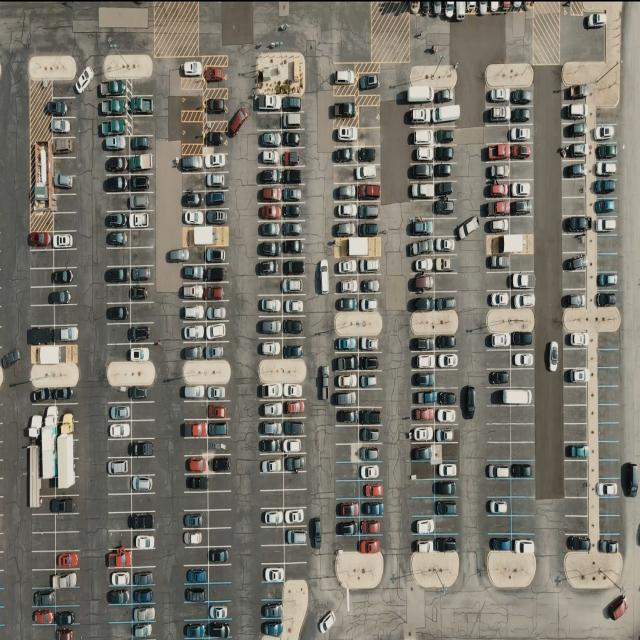space-empty: (490, 406, 534, 426), (560, 196, 588, 216), (561, 234, 588, 254), (30, 305, 54, 327), (130, 229, 156, 249), (408, 201, 435, 220), (563, 348, 587, 369), (106, 322, 130, 343), (55, 305, 79, 326), (130, 115, 155, 135), (595, 235, 620, 255), (258, 276, 283, 296), (262, 526, 287, 546), (485, 349, 510, 369), (31, 514, 56, 534), (562, 178, 588, 197), (130, 247, 156, 266), (54, 588, 80, 607), (181, 400, 207, 419), (485, 442, 511, 461), (485, 480, 512, 498), (357, 106, 380, 127), (562, 270, 586, 290), (208, 490, 232, 510), (563, 406, 587, 426), (564, 479, 588, 499), (108, 529, 132, 549), (336, 424, 360, 444), (208, 510, 232, 530), (52, 78, 76, 98), (564, 496, 588, 516), (335, 480, 359, 500), (29, 286, 53, 306), (512, 479, 537, 498), (105, 248, 130, 267), (487, 516, 512, 535), (106, 476, 131, 495), (510, 253, 535, 272), (131, 492, 156, 511), (183, 492, 208, 511), (356, 388, 381, 407), (56, 531, 81, 550), (434, 218, 459, 237), (256, 112, 282, 130), (184, 602, 210, 620), (510, 424, 536, 442), (180, 124, 203, 144), (132, 400, 155, 420), (30, 212, 53, 232), (53, 193, 77, 212), (106, 439, 130, 458), (107, 493, 131, 512), (208, 564, 232, 583), (563, 386, 587, 405), (132, 419, 156, 438), (184, 547, 208, 566), (437, 370, 461, 389), (53, 158, 77, 177), (564, 423, 588, 442), (411, 496, 435, 515), (509, 215, 533, 234), (356, 128, 380, 147), (131, 77, 155, 96), (32, 552, 56, 571), (32, 532, 56, 551), (262, 489, 286, 508), (512, 497, 536, 516), (488, 423, 512, 442), (180, 173, 205, 191), (182, 439, 207, 457), (105, 192, 130, 210), (484, 126, 509, 144), (105, 284, 130, 302), (29, 250, 54, 268), (509, 162, 534, 180), (484, 272, 509, 290), (107, 604, 132, 622), (564, 516, 589, 534), (511, 368, 536, 386), (411, 461, 437, 478), (130, 304, 152, 324), (598, 442, 620, 462), (597, 385, 619, 405), (54, 212, 77, 231), (597, 366, 620, 385), (335, 461, 358, 480), (207, 583, 230, 602), (411, 479, 434, 498), (436, 516, 460, 534), (132, 550, 156, 568), (262, 546, 286, 564), (282, 471, 306, 489), (564, 460, 588, 478), (261, 472, 285, 490), (107, 513, 131, 531), (596, 256, 620, 274), (512, 516, 536, 534), (512, 443, 536, 461), (208, 528, 232, 546), (30, 269, 54, 287), (598, 405, 620, 424), (334, 165, 356, 184), (208, 474, 230, 493), (598, 496, 620, 515), (283, 489, 305, 508), (596, 106, 618, 125), (597, 349, 620, 367), (284, 546, 307, 564), (132, 457, 155, 475), (263, 584, 286, 602), (56, 514, 79, 532), (106, 385, 129, 403), (181, 94, 204, 112), (597, 332, 620, 350), (284, 562, 307, 580), (109, 623, 133, 640), (598, 423, 619, 442), (33, 569, 54, 588), (55, 249, 77, 267), (436, 274, 458, 292), (439, 443, 459, 462), (599, 516, 620, 534), (335, 445, 357, 462), (107, 346, 130, 362), (599, 460, 620, 477), (336, 536, 358, 552), (33, 626, 56, 640), (357, 94, 380, 108)
space-occupied: (490, 385, 534, 406), (99, 96, 128, 118), (204, 94, 229, 119), (101, 134, 129, 156), (98, 116, 128, 136), (405, 105, 433, 126), (409, 180, 436, 201), (485, 458, 512, 479), (49, 97, 76, 118), (434, 104, 461, 125), (590, 178, 618, 198), (408, 237, 436, 257), (591, 198, 619, 218), (406, 87, 434, 107), (335, 97, 358, 121), (334, 64, 356, 89), (561, 102, 588, 122), (561, 215, 589, 234), (204, 64, 228, 86), (204, 126, 228, 148), (129, 95, 154, 116), (258, 316, 283, 337), (51, 137, 76, 158), (259, 294, 284, 315), (29, 230, 54, 251), (50, 118, 76, 138), (485, 87, 511, 107), (560, 160, 586, 180), (592, 215, 618, 235), (355, 444, 381, 464), (29, 325, 55, 345), (410, 443, 437, 462), (484, 199, 511, 218), (282, 316, 305, 338), (282, 294, 306, 315), (434, 290, 458, 311), (562, 252, 587, 272), (129, 155, 154, 175), (484, 105, 509, 125), (106, 419, 131, 439), (511, 460, 536, 480), (130, 265, 155, 285), (562, 288, 587, 308), (562, 140, 587, 160), (105, 304, 130, 324), (486, 495, 511, 515), (184, 527, 209, 547), (258, 338, 283, 358), (411, 351, 436, 371), (183, 620, 208, 640), (410, 273, 435, 293), (102, 78, 128, 97), (181, 419, 207, 438), (254, 94, 280, 113), (562, 124, 588, 143), (181, 383, 207, 402), (102, 157, 128, 176), (256, 259, 282, 278), (409, 217, 435, 236), (566, 533, 592, 552), (409, 254, 435, 273), (510, 289, 536, 308), (484, 216, 510, 235), (181, 58, 203, 80), (357, 73, 380, 94), (262, 562, 286, 582), (564, 442, 588, 462), (436, 350, 460, 370), (204, 152, 228, 172), (106, 456, 130, 476), (282, 274, 306, 294), (334, 126, 358, 146), (106, 229, 130, 249), (487, 252, 511, 272), (106, 402, 130, 422), (56, 324, 80, 344), (205, 320, 229, 340), (184, 474, 208, 494), (280, 149, 304, 169), (355, 163, 379, 183), (335, 275, 359, 295), (108, 567, 132, 587), (512, 533, 536, 553), (511, 349, 536, 368), (592, 124, 617, 143), (105, 266, 130, 285), (180, 303, 205, 322), (356, 182, 381, 201), (511, 273, 536, 292), (358, 481, 383, 500), (484, 179, 509, 198), (509, 198, 534, 217), (409, 145, 434, 164), (485, 143, 510, 162), (357, 461, 382, 480), (52, 285, 77, 304), (411, 370, 436, 389), (409, 128, 434, 147), (486, 288, 511, 307), (485, 333, 511, 351), (561, 85, 587, 103), (333, 388, 359, 406), (334, 295, 360, 313), (334, 354, 360, 372), (410, 293, 436, 311), (130, 322, 152, 343), (282, 338, 304, 359), (205, 170, 228, 190), (131, 474, 154, 494), (186, 564, 209, 584), (334, 144, 357, 164), (206, 302, 229, 322), (597, 534, 620, 554), (595, 288, 618, 308), (205, 264, 228, 284), (130, 210, 154, 229), (130, 136, 154, 155), (563, 366, 587, 385), (183, 511, 207, 530), (411, 516, 435, 535), (181, 190, 205, 209), (262, 509, 286, 528), (282, 453, 306, 472), (258, 130, 282, 149), (182, 456, 206, 475), (258, 147, 282, 166), (511, 332, 535, 351), (204, 189, 228, 208), (284, 526, 308, 545), (55, 569, 79, 588), (205, 282, 229, 301), (180, 282, 204, 301), (281, 219, 305, 238), (334, 371, 358, 390), (432, 88, 456, 107), (260, 418, 284, 437), (180, 322, 204, 341), (108, 550, 132, 569), (335, 408, 359, 427), (488, 369, 512, 388), (356, 408, 380, 427), (334, 202, 358, 221), (410, 423, 434, 442), (55, 605, 79, 624), (357, 534, 381, 553), (53, 495, 77, 514), (180, 264, 204, 283), (132, 513, 156, 532), (105, 210, 130, 228), (409, 164, 434, 182), (334, 182, 359, 200), (358, 518, 383, 536), (258, 220, 283, 238), (104, 174, 129, 192), (412, 388, 437, 406), (358, 498, 383, 516), (488, 534, 513, 552), (485, 162, 510, 180), (202, 246, 227, 264), (170, 246, 195, 264), (356, 144, 378, 164), (54, 231, 76, 251), (132, 438, 154, 458), (53, 174, 76, 193), (510, 125, 533, 144), (435, 236, 458, 255), (510, 179, 533, 198), (283, 508, 306, 527), (33, 608, 56, 627), (511, 105, 534, 124), (207, 455, 230, 474), (356, 202, 379, 221), (282, 436, 305, 455), (54, 383, 77, 402), (358, 424, 381, 443), (207, 621, 230, 640), (282, 398, 305, 417), (132, 566, 155, 585), (564, 332, 588, 350), (434, 145, 458, 163), (179, 154, 203, 172), (510, 142, 534, 160), (336, 336, 360, 354), (336, 498, 360, 516), (108, 587, 132, 605), (260, 438, 284, 456), (258, 240, 282, 258), (130, 174, 154, 192), (259, 203, 283, 221), (260, 455, 284, 473), (594, 162, 618, 180), (436, 533, 460, 551), (594, 142, 618, 160), (412, 407, 436, 425), (433, 480, 457, 498), (181, 209, 205, 227), (260, 399, 284, 417), (411, 533, 435, 551), (181, 342, 205, 360), (204, 342, 228, 360), (209, 547, 231, 566), (357, 371, 379, 390), (263, 600, 285, 619), (130, 344, 152, 363), (208, 601, 230, 620), (207, 402, 229, 421), (511, 89, 534, 107), (133, 531, 156, 549), (207, 419, 230, 437), (130, 192, 153, 210), (56, 552, 79, 570), (281, 382, 304, 400), (435, 256, 458, 274), (184, 585, 207, 603), (133, 587, 156, 605), (259, 184, 282, 202), (280, 203, 303, 221), (32, 386, 55, 404), (436, 425, 459, 443), (436, 407, 459, 425), (133, 603, 156, 621), (358, 276, 381, 294), (281, 168, 304, 186), (336, 259, 359, 277), (435, 459, 458, 477), (410, 336, 434, 353), (259, 383, 283, 400), (258, 168, 282, 185), (434, 164, 456, 182), (207, 384, 229, 402), (436, 335, 458, 353), (438, 388, 460, 406), (130, 284, 152, 302), (54, 268, 76, 286), (434, 128, 456, 146), (282, 259, 304, 277), (356, 256, 378, 274), (206, 208, 228, 226), (132, 622, 154, 640), (282, 239, 304, 257), (436, 497, 458, 515), (358, 295, 380, 313), (283, 418, 305, 436), (357, 353, 379, 371), (262, 621, 284, 639), (337, 518, 360, 535), (598, 481, 621, 498), (281, 112, 302, 130), (281, 130, 302, 148), (596, 273, 618, 290), (334, 219, 356, 236), (281, 185, 303, 202), (131, 385, 153, 402), (355, 222, 378, 238), (33, 589, 53, 607), (436, 180, 456, 198), (282, 96, 303, 113), (358, 337, 379, 354), (436, 201, 457, 218), (54, 626, 74, 640)
